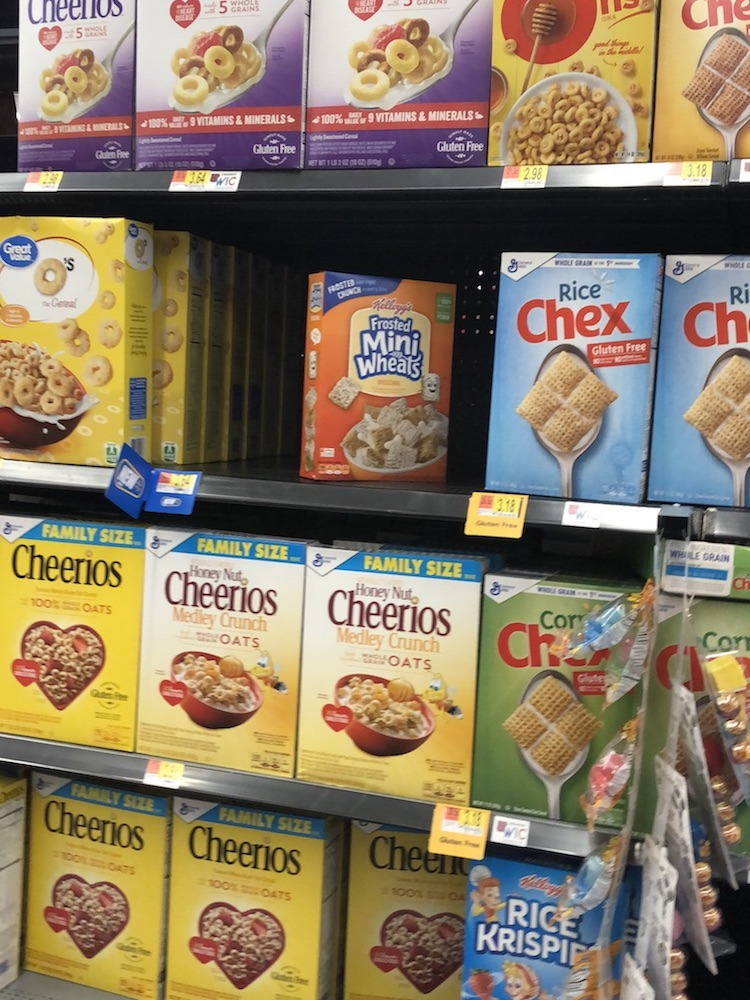Frosted Mini Original -9295869: (308, 267, 452, 490)
